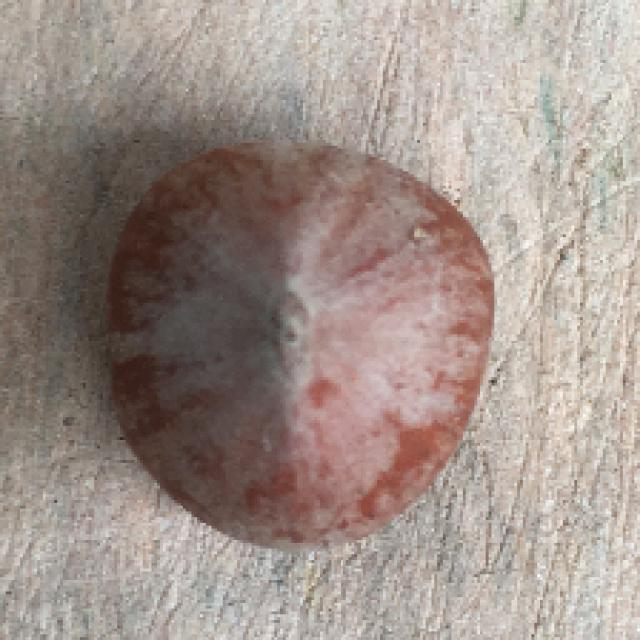qualityHazelnut: (99, 134, 497, 546)
